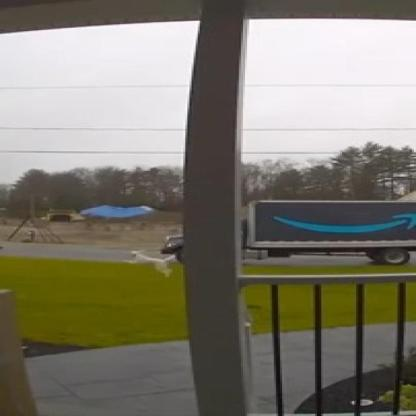dog: (119, 249, 178, 280)
